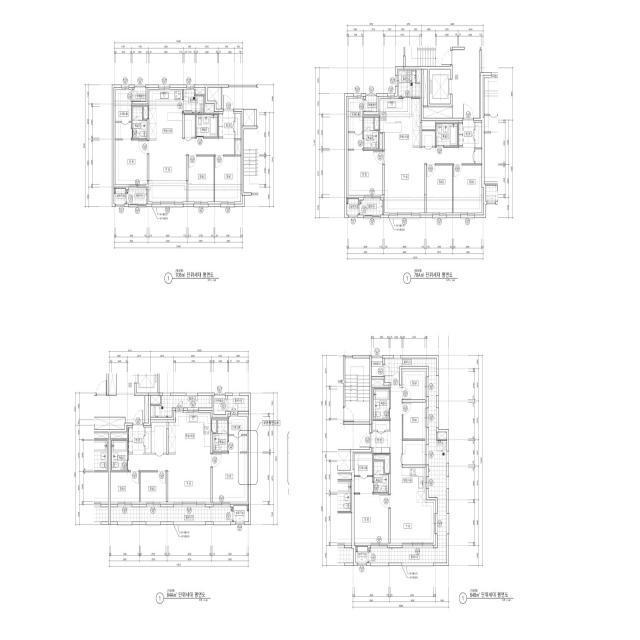space_balconi: (369, 358, 447, 563), (111, 507, 233, 522), (151, 396, 212, 417), (399, 71, 420, 97), (184, 90, 204, 113), (360, 198, 382, 215), (227, 396, 249, 411), (127, 188, 147, 204)
space_bedroom: (354, 494, 388, 543), (213, 453, 247, 502), (348, 151, 382, 195), (116, 140, 147, 185), (453, 165, 482, 213), (426, 165, 452, 213), (188, 156, 214, 202), (215, 156, 241, 202), (111, 472, 139, 502), (403, 403, 425, 439), (140, 472, 166, 502), (403, 371, 425, 400)
space_dressroom: (348, 99, 363, 149), (354, 454, 373, 493), (116, 90, 131, 139), (229, 416, 247, 452)
space_elevator: (430, 69, 450, 104)
space_elevator_hall: (452, 50, 480, 118)
space_front: (128, 425, 144, 454), (219, 110, 234, 138), (459, 119, 474, 147), (371, 432, 390, 454)
space_kitchen: (380, 98, 420, 146), (168, 413, 211, 453), (149, 90, 183, 139), (402, 468, 425, 503)
space_living_room: (390, 387, 434, 543), (384, 146, 474, 213), (149, 138, 234, 202), (128, 454, 211, 502)
space_other: (403, 440, 425, 465), (152, 422, 166, 453), (423, 107, 452, 118), (208, 88, 221, 109), (374, 455, 389, 473), (184, 115, 195, 137), (214, 396, 226, 415), (364, 96, 377, 112), (372, 358, 383, 376), (422, 131, 435, 146), (244, 109, 255, 126), (133, 87, 146, 101), (423, 69, 428, 105), (475, 123, 482, 148), (373, 420, 389, 430), (235, 114, 241, 139), (145, 428, 151, 453), (145, 396, 149, 423), (475, 149, 482, 164), (111, 433, 127, 439), (235, 140, 241, 155), (372, 379, 384, 385), (151, 396, 160, 404), (437, 432, 447, 439), (205, 105, 213, 113), (143, 107, 148, 119), (195, 89, 205, 95), (212, 420, 217, 432), (375, 117, 379, 129), (416, 71, 420, 82), (380, 134, 382, 149)
space_outdoor_room: (234, 506, 249, 522), (114, 188, 126, 204), (356, 547, 368, 563), (347, 199, 359, 215)
space_staircase: (345, 358, 370, 422)
space_toilet: (196, 115, 218, 137), (436, 124, 458, 146), (364, 117, 379, 149), (132, 107, 147, 139), (213, 420, 228, 452), (112, 440, 127, 471), (374, 389, 389, 419), (374, 461, 388, 493)
